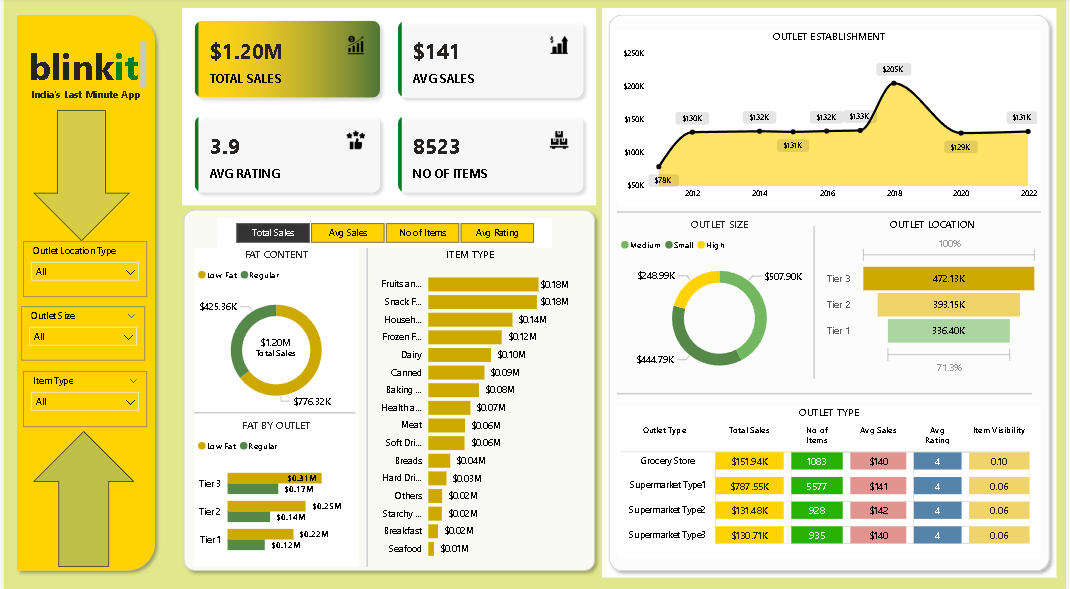

The dashboard page shown, as its layout file describes it:
{"tool":"powerbi","page":{"name":"Dashboard Blinkit","canvas":[1420,800],"ordinal":0},"visuals":[{"type":"shape","box":[7.6,13.7,203.1,761.9],"z":0},{"type":"textbox","box":[25.3,52.4,169.9,74.1],"z":1000},{"type":"textbox","box":[26,114.5,166.4,38.2],"z":2000},{"type":"cardVisual","fields":{"Data":["BlinkIT Grocery Data.Total Sales","BlinkIT Grocery Data.Avg Sales","BlinkIT Grocery Data.Avg Rating","BlinkIT Grocery Data.No of Items"]},"box":[238.2,13.7,554.3,264.2],"z":3000},{"type":"shape","box":[232.1,274.8,568,500.8],"z":4000},{"type":"slicer","fields":{"Values":["Metrics.Metrics"]},"box":[285.5,294.6,448.2,39.8],"z":5000},{"type":"donutChart","title":"FAT CONTENT","fields":{"Y":["BlinkIT Grocery Data.Total Sales"],"Category":["BlinkIT Grocery Data.Item Fat Content"]},"box":[254.8,334.3,220.5,229.5],"z":6000},{"type":"cardVisual","fields":{"Data":["BlinkIT Grocery Data.Total Sales"]},"box":[305.4,433.7,117.5,65.1],"z":7000},{"type":"clusteredBarChart","title":"FAT BY OUTLET","fields":{"Y":["BlinkIT Grocery Data.Total Sales"],"Category":["BlinkIT Grocery Data.Outlet Location Type"],"Series":["BlinkIT Grocery Data.Item Fat Content"]},"box":[254.8,563.9,220.5,197],"z":8000},{"type":"shape","box":[254.8,545.8,216.9,18.1],"z":9000},{"type":"shape","box":[475.3,334.3,21.7,426.5],"z":10000},{"type":"clusteredBarChart","title":"ITEM TYPE","fields":{"Y":["BlinkIT Grocery Data.Total Sales"],"Category":["BlinkIT Grocery Data.Item Type"]},"box":[486.2,334.3,276.5,426.5],"z":11000},{"type":"shape","box":[800.1,13.7,607.7,761.9],"z":12000},{"type":"lineChart","title":"OUTLET ESTABLISHMENT","fields":{"Category":["BlinkIT Grocery Data.Outlet Establishment Year"],"Y":["BlinkIT Grocery Data.Total Sales"]},"box":[820.5,43.4,567.5,234.9],"z":13000},{"type":"shape","box":[820.5,278.3,567.5,16.3],"z":14000},{"type":"donutChart","title":"OUTLET SIZE ","fields":{"Y":["BlinkIT Grocery Data.Total Sales"],"Category":["BlinkIT Grocery Data.Outlet Size"]},"box":[820.5,294.6,274.7,224.1],"z":15000},{"type":"shape","box":[1073.5,305.4,21.7,204.2],"z":16000},{"type":"funnel","title":"OUTLET LOCATION","fields":{"Y":["Sum(BlinkIT Grocery Data.Sales)"],"Category":["BlinkIT Grocery Data.Outlet Location Type"]},"box":[1095.2,294.6,292.8,215.1],"z":17000},{"type":"shape","box":[820.5,525.9,554.8,7.2],"z":18000},{"type":"pivotTable","title":"OUTLET TYPE ","fields":{"Rows":["BlinkIT Grocery Data.Outlet Type"],"Values":["BlinkIT Grocery Data.Total Sales","BlinkIT Grocery Data.No of Items","BlinkIT Grocery Data.Avg Sales","BlinkIT Grocery Data.Avg Rating","Avg(BlinkIT Grocery Data.Item Visibility)"]},"box":[820.5,545.8,567.5,204.2],"z":19000},{"type":"slicer","fields":{"Values":["BlinkIT Grocery Data.Outlet Location Type"]},"box":[26,325.2,166.4,74.8],"z":20000},{"type":"slicer","fields":{"Values":["BlinkIT Grocery Data.Outlet Size"]},"box":[22.9,412.3,166.4,73.3],"z":21000},{"type":"slicer","fields":{"Values":["BlinkIT Grocery Data.Item Type"]},"box":[26,499.3,166.4,74.8],"z":22000},{"type":"shape","box":[38.2,578.7,135.9,181.7],"z":22001},{"type":"shape","box":[38.2,149.6,129.8,175.6],"z":22002}]}

Visuals, with their boxes in screenshot pixels (x1, y1, x2, y2), scaled from the page's 1420x800 canvas onto the 1070x589 screenshot:
shape: left=6, top=10, right=159, bottom=571
textbox: left=19, top=39, right=147, bottom=93
textbox: left=20, top=84, right=145, bottom=112
cardVisual - BlinkIT Grocery Data.Total Sales x BlinkIT Grocery Data.Avg Sales: left=179, top=10, right=597, bottom=205
shape: left=175, top=202, right=603, bottom=571
slicer - Metrics.Metrics: left=215, top=217, right=553, bottom=246
"FAT CONTENT" donutChart: left=192, top=246, right=358, bottom=415
cardVisual - BlinkIT Grocery Data.Total Sales: left=230, top=319, right=319, bottom=367
"FAT BY OUTLET" clusteredBarChart: left=192, top=415, right=358, bottom=560
shape: left=192, top=402, right=355, bottom=415
shape: left=358, top=246, right=374, bottom=560
"ITEM TYPE" clusteredBarChart: left=366, top=246, right=575, bottom=560
shape: left=603, top=10, right=1061, bottom=571
"OUTLET ESTABLISHMENT" lineChart: left=618, top=32, right=1046, bottom=205
shape: left=618, top=205, right=1046, bottom=217
"OUTLET SIZE " donutChart: left=618, top=217, right=825, bottom=382
shape: left=809, top=225, right=825, bottom=375
"OUTLET LOCATION" funnel: left=825, top=217, right=1046, bottom=375
shape: left=618, top=387, right=1036, bottom=392
"OUTLET TYPE " pivotTable: left=618, top=402, right=1046, bottom=552
slicer - BlinkIT Grocery Data.Outlet Location Type: left=20, top=239, right=145, bottom=294
slicer - BlinkIT Grocery Data.Outlet Size: left=17, top=304, right=143, bottom=358
slicer - BlinkIT Grocery Data.Item Type: left=20, top=368, right=145, bottom=423
shape: left=29, top=426, right=131, bottom=560
shape: left=29, top=110, right=127, bottom=239
